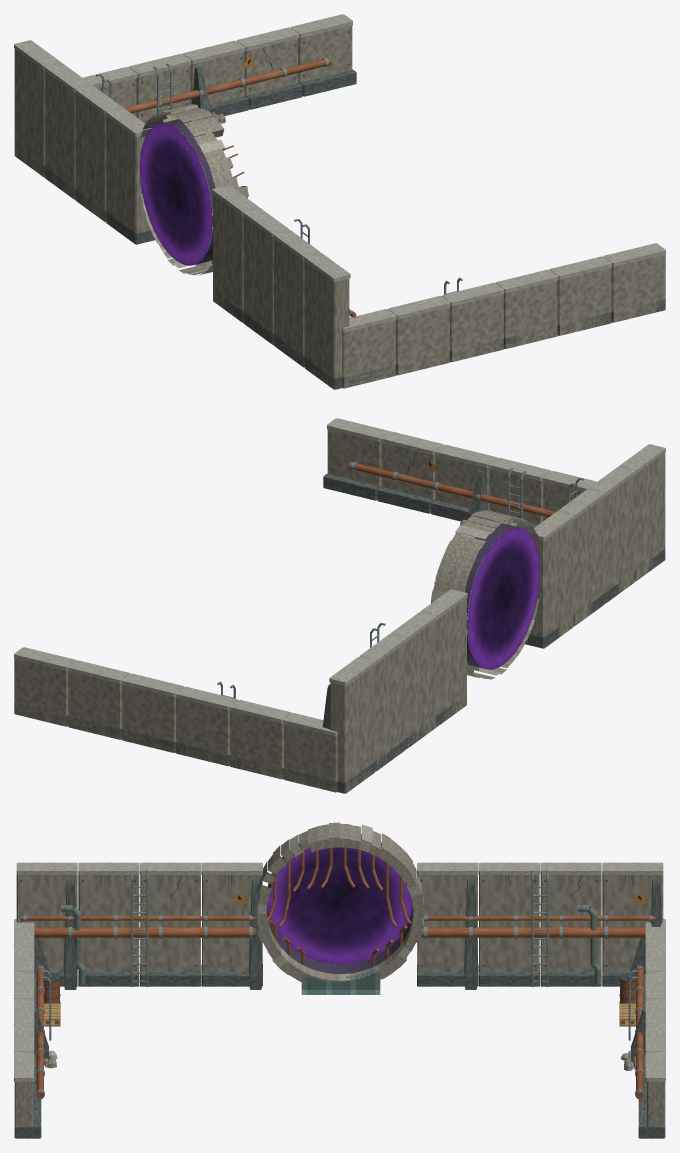
The model's file is ap_foso_nasor.glb.
3 views of the same model, one above another, from view 1: azimuth 30°, elevation 25°; view 2: azimuth 150°, elevation 25°; view 3: azimuth 270°, elevation 25° (orthographic).
Parts seen in each view (by area): view 1: ap_foso_nasor; view 2: ap_foso_nasor; view 3: ap_foso_nasor.
Part boxes in pixels (left/top/right/bottom): ap_foso_nasor: left=14, top=14, right=665, bottom=389; ap_foso_nasor: left=14, top=418, right=665, bottom=793; ap_foso_nasor: left=14, top=822, right=665, bottom=1138.
Size of the model in its own units: 11.83 by 5.24 by 19.96.
2 materials, 2 textured.
